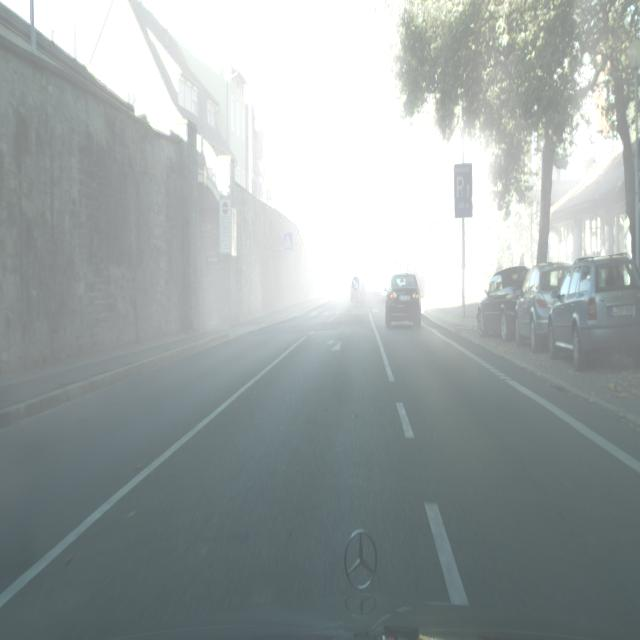car: (380, 246, 408, 302)
person: (548, 256, 640, 372), (515, 261, 571, 352), (476, 265, 530, 341), (385, 272, 422, 329), (350, 276, 367, 302)
